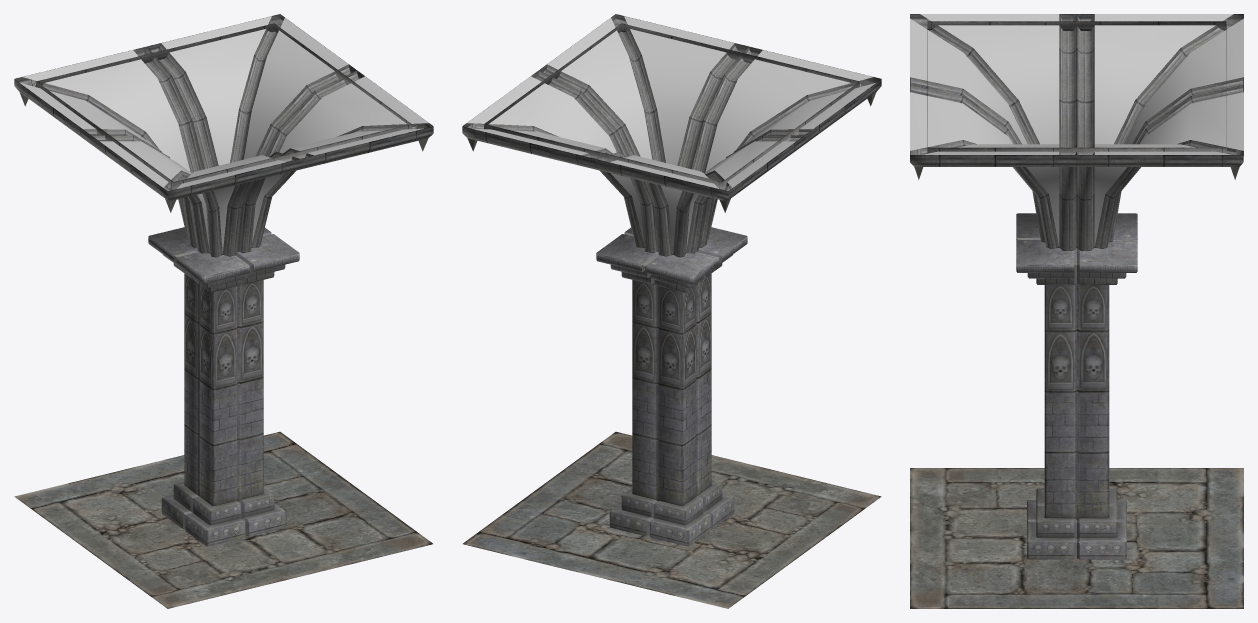
The model's file is ColumnRoof.FBX.
3 views of the same model, side by side, from view 1: azimuth 30°, elevation 25°; view 2: azimuth 150°, elevation 25°; view 3: azimuth 270°, elevation 25° (orthographic). The views are drawn at different scales.
Visible parts, largest first — view 1: Object02; view 2: Object02; view 3: Object02.
Part boxes in pixels (<box>): Object02: <box>14,14,433,608</box>; Object02: <box>462,14,881,608</box>; Object02: <box>910,14,1243,608</box>.
Size of the model in its own units: 500 by 750 by 500.
